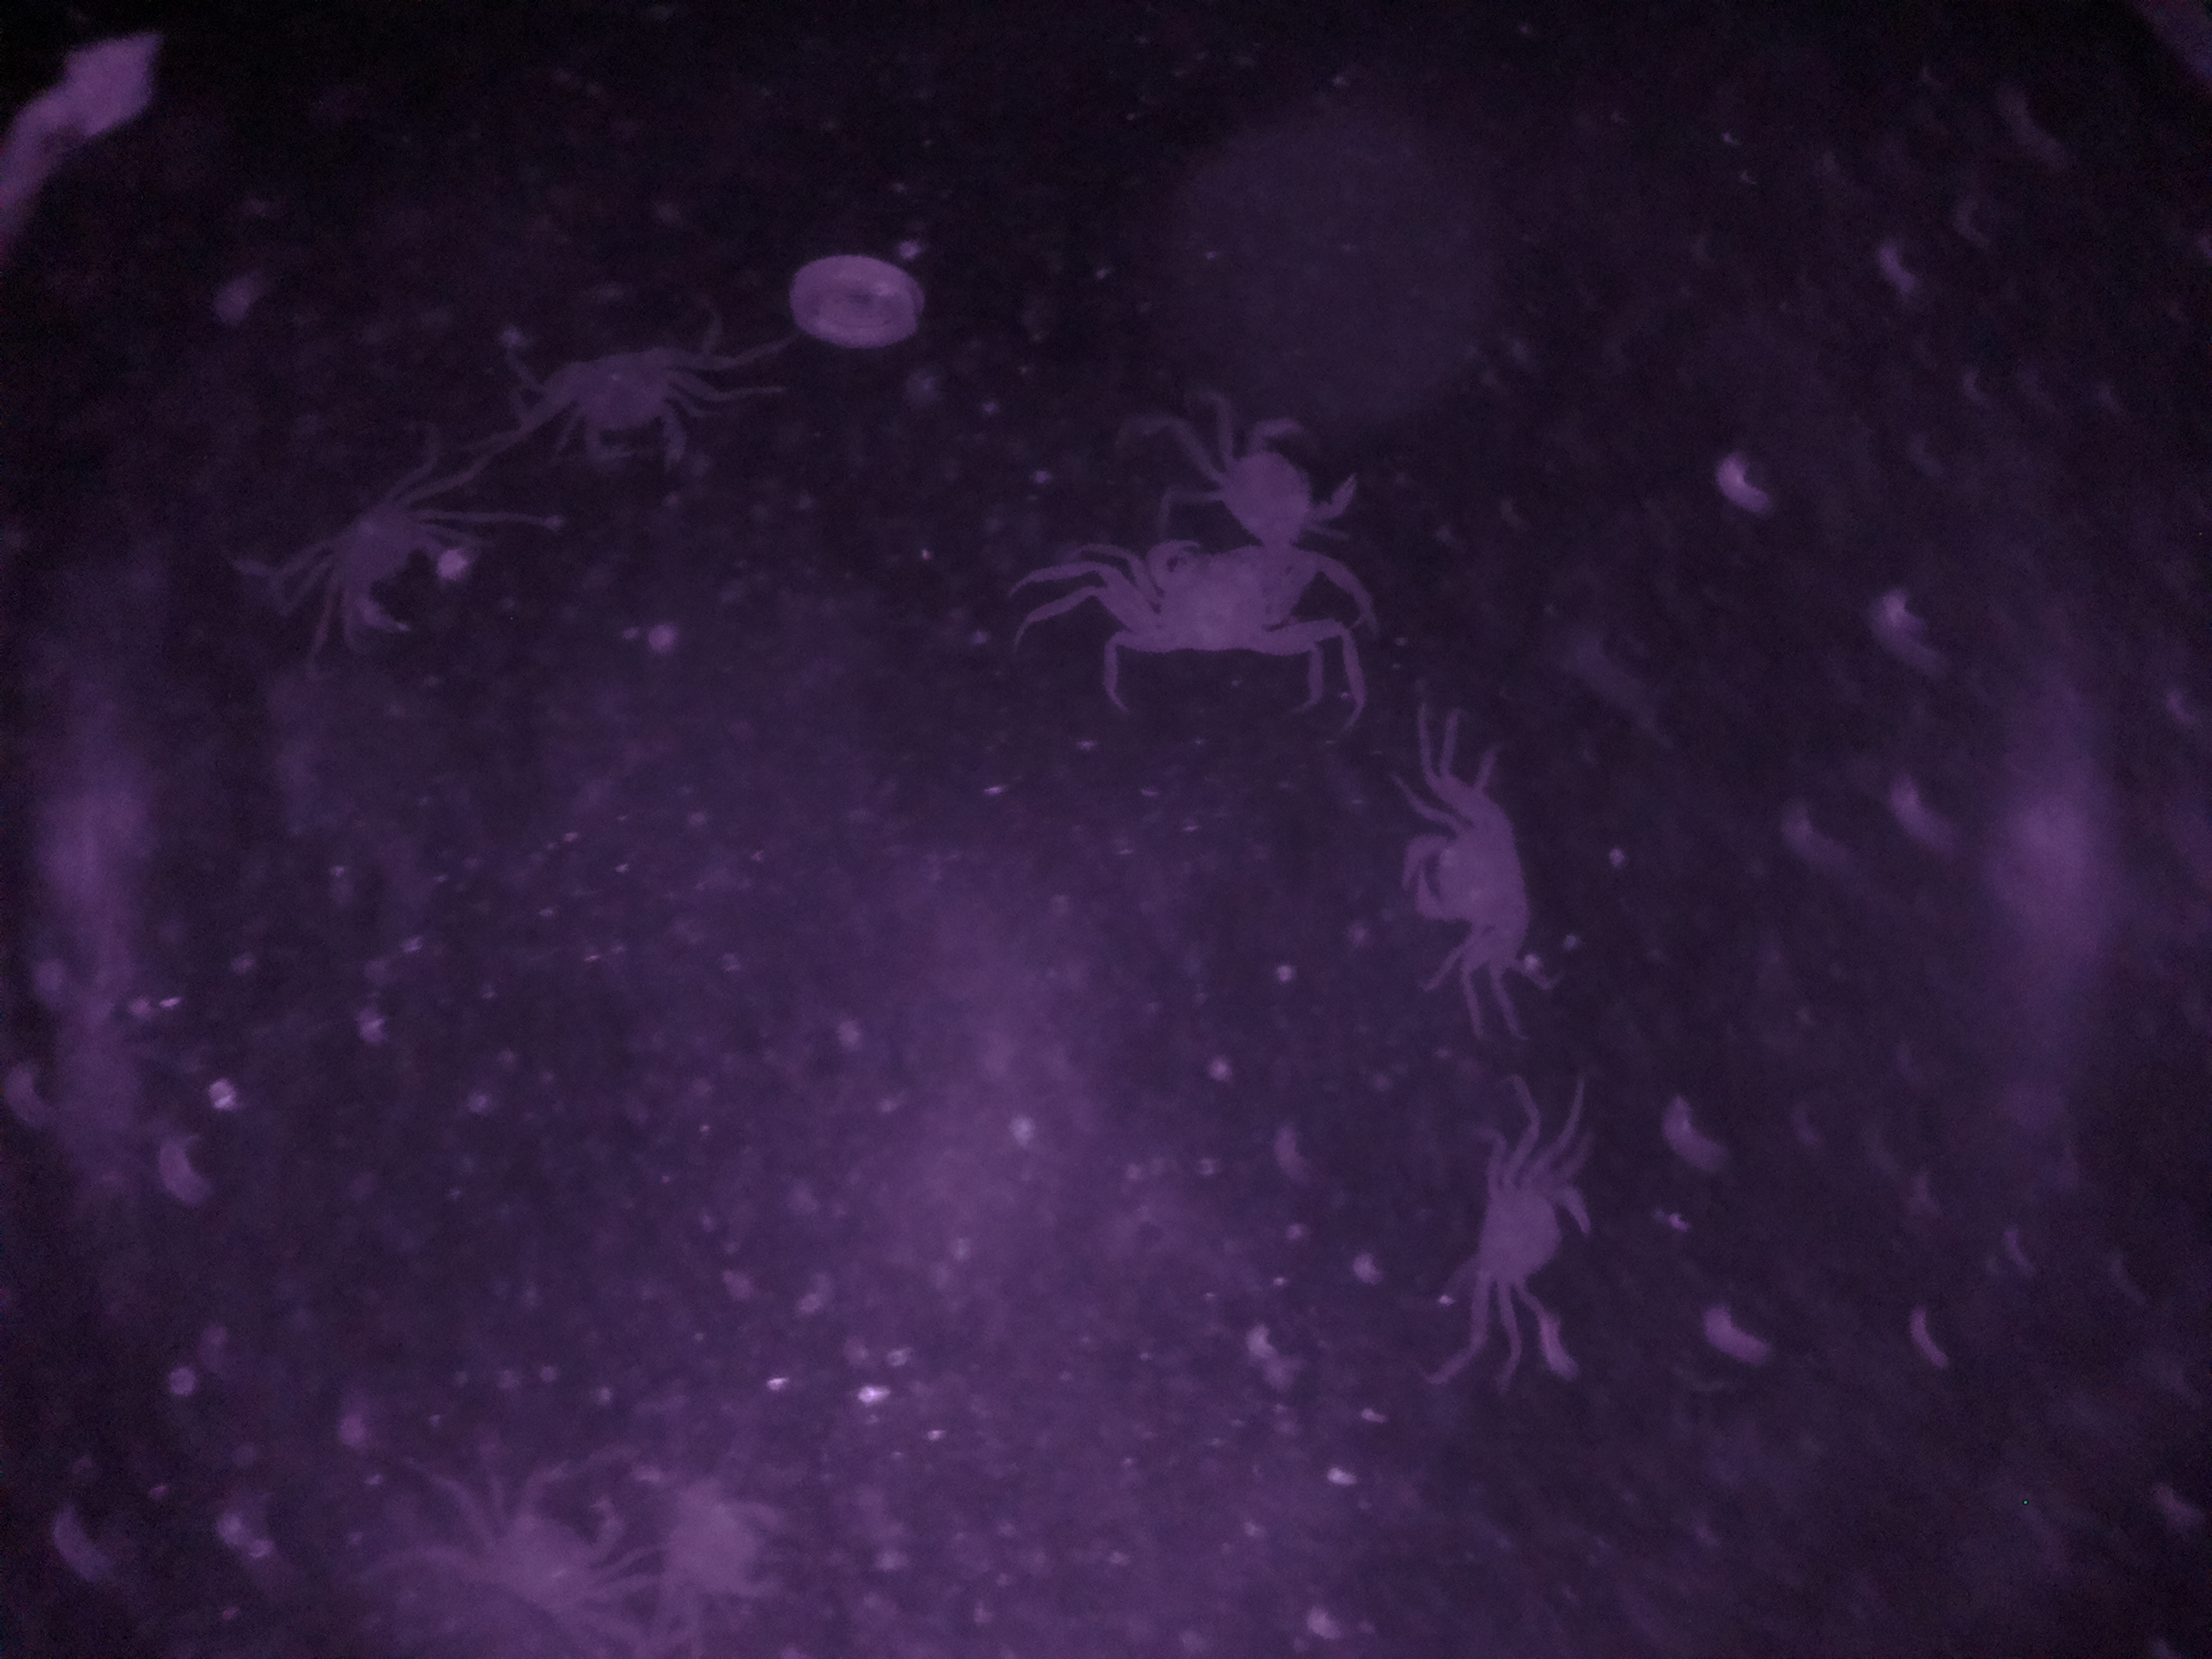Crab: (1385, 760, 1564, 983), (1433, 1119, 1602, 1344), (1122, 523, 1315, 683)
